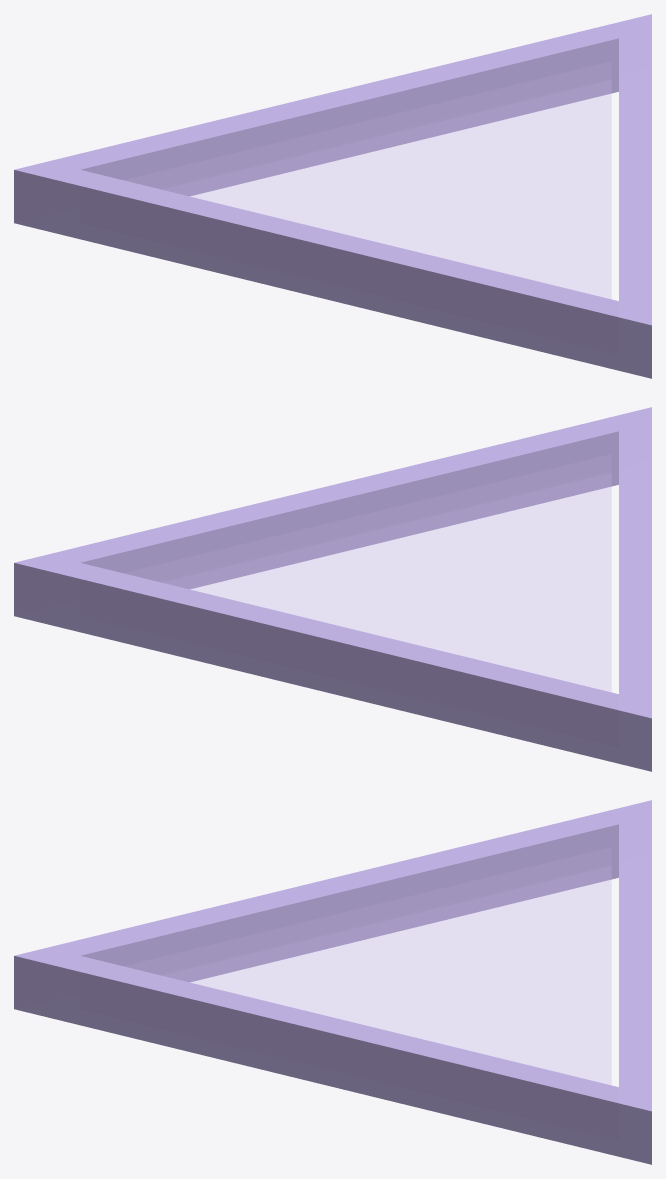
The model's file is tile-triangle.glb.
3 renders of one model, top to bottom at view 1: azimuth 30°, elevation 25°; view 2: azimuth 150°, elevation 25°; view 3: azimuth 270°, elevation 25°, orthographic.
Parts seen in each view (by area): view 1: tile; view 2: tile; view 3: tile.
Boxes of the visible parts, x1,y1,x2,y2 form: tile: [14, 14, 651, 378]; tile: [14, 407, 651, 771]; tile: [14, 800, 651, 1164].
Size of the model in its own units: 1 by 0.08 by 0.866.
